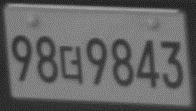3: (160, 39, 184, 89)
4: (134, 39, 160, 88)
8: (109, 37, 134, 87), (35, 35, 58, 83)
9: (85, 36, 108, 85), (10, 33, 32, 81)
더: (59, 44, 83, 84)
